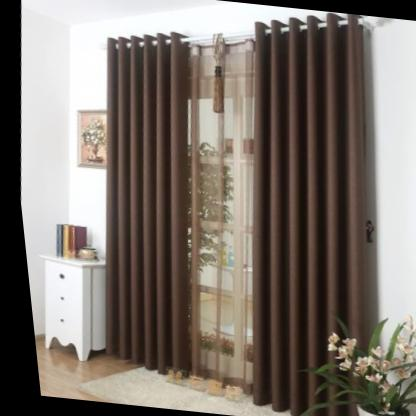Curtains: (97, 13, 372, 416)
Nightstand: (37, 258, 98, 362)
Wooden floor: (27, 335, 281, 416)
